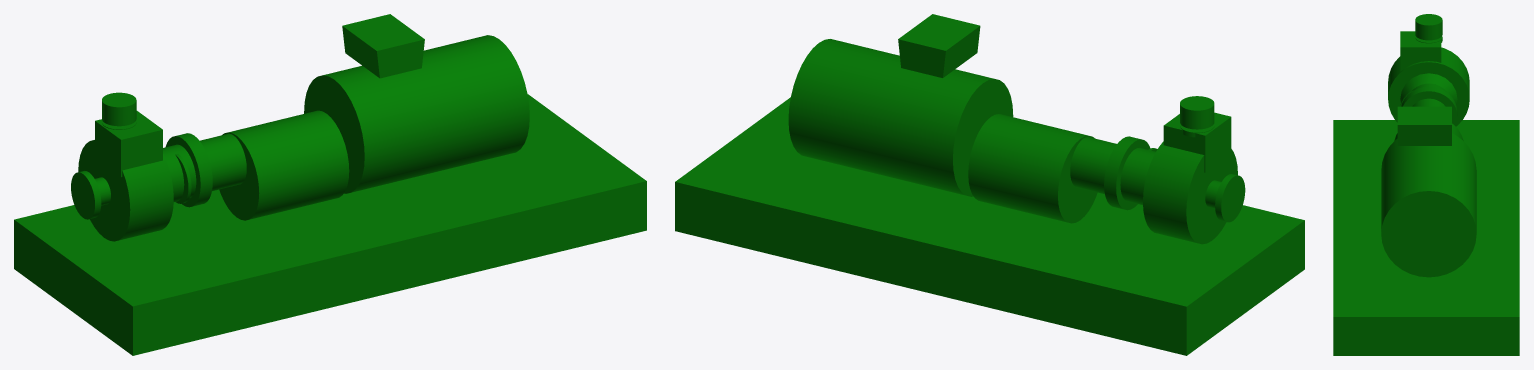
The model's file is Image-1710907767815-2281110694496_20-PA001.fbx.
3 views of the same model, side by side, from view 1: azimuth 30°, elevation 25°; view 2: azimuth 150°, elevation 25°; view 3: azimuth 270°, elevation 25° (orthographic). The views are drawn at different scales.
Parts seen in each view (by area): view 1: BOX 1 of SUBEQUIPMENT 1 of EQUIPMENT /20-PA001, CYLINDER 1 of SUBEQUIPMENT 1 of EQUIPMENT /20-PA001, CYLINDER 4 of SUBEQUIPMENT 1 of EQUIPMENT /20-PA001, CYLINDER 8 of SUBEQUIPMENT 1 of EQUIPMENT /20-PA001, PYRAMID 1 of SUBEQUIPMENT 1 of EQUIPMENT /20-PA001, BOX 2 of SUBEQUIPMENT 1 of EQUIPMENT /20-PA001, CYLINDER 5 of SUBEQUIPMENT 1 of EQUIPMENT /20-PA001, CYLINDER 6 of SUBEQUIPMENT 1 of EQUIPMENT /20-PA001, CYLINDER 10 of SUBEQUIPMENT 1 of EQUIPMENT /20-PA001, CYLINDER 14 of SUBEQUIPMENT 1 of EQUIPMENT /20-PA001, CYLINDER 15 of SUBEQUIPMENT 1 of EQUIPMENT /20-PA001, CYLINDER 7 of SUBEQUIPMENT 1 of EQUIPMENT /20-PA001; view 2: BOX 1 of SUBEQUIPMENT 1 of EQUIPMENT /20-PA001, CYLINDER 1 of SUBEQUIPMENT 1 of EQUIPMENT /20-PA001, CYLINDER 4 of SUBEQUIPMENT 1 of EQUIPMENT /20-PA001, CYLINDER 8 of SUBEQUIPMENT 1 of EQUIPMENT /20-PA001, PYRAMID 1 of SUBEQUIPMENT 1 of EQUIPMENT /20-PA001, BOX 2 of SUBEQUIPMENT 1 of EQUIPMENT /20-PA001, CYLINDER 5 of SUBEQUIPMENT 1 of EQUIPMENT /20-PA001, CYLINDER 6 of SUBEQUIPMENT 1 of EQUIPMENT /20-PA001, CYLINDER 15 of SUBEQUIPMENT 1 of EQUIPMENT /20-PA001, CYLINDER 7 of SUBEQUIPMENT 1 of EQUIPMENT /20-PA001, CYLINDER 10 of SUBEQUIPMENT 1 of EQUIPMENT /20-PA001, CYLINDER 14 of SUBEQUIPMENT 1 of EQUIPMENT /20-PA001; view 3: BOX 1 of SUBEQUIPMENT 1 of EQUIPMENT /20-PA001, CYLINDER 1 of SUBEQUIPMENT 1 of EQUIPMENT /20-PA001, PYRAMID 1 of SUBEQUIPMENT 1 of EQUIPMENT /20-PA001, CYLINDER 7 of SUBEQUIPMENT 1 of EQUIPMENT /20-PA001, BOX 2 of SUBEQUIPMENT 1 of EQUIPMENT /20-PA001, CYLINDER 6 of SUBEQUIPMENT 1 of EQUIPMENT /20-PA001, CONE 1 of SUBEQUIPMENT 1 of EQUIPMENT /20-PA001, CYLINDER 14 of SUBEQUIPMENT 1 of EQUIPMENT /20-PA001, CYLINDER 8 of SUBEQUIPMENT 1 of EQUIPMENT /20-PA001, CYLINDER 5 of SUBEQUIPMENT 1 of EQUIPMENT /20-PA001.
Boxes of the visible parts, left/top/right/bottom form: BOX 1 of SUBEQUIPMENT 1 of EQUIPMENT /20-PA001: left=14, top=94, right=646, bottom=355; CYLINDER 1 of SUBEQUIPMENT 1 of EQUIPMENT /20-PA001: left=304, top=35, right=529, bottom=193; CYLINDER 4 of SUBEQUIPMENT 1 of EQUIPMENT /20-PA001: left=219, top=110, right=349, bottom=220; CYLINDER 8 of SUBEQUIPMENT 1 of EQUIPMENT /20-PA001: left=78, top=140, right=160, bottom=241; PYRAMID 1 of SUBEQUIPMENT 1 of EQUIPMENT /20-PA001: left=342, top=14, right=424, bottom=78; BOX 2 of SUBEQUIPMENT 1 of EQUIPMENT /20-PA001: left=95, top=111, right=162, bottom=176; CYLINDER 5 of SUBEQUIPMENT 1 of EQUIPMENT /20-PA001: left=200, top=133, right=246, bottom=190; CYLINDER 6 of SUBEQUIPMENT 1 of EQUIPMENT /20-PA001: left=165, top=133, right=212, bottom=207; CYLINDER 10 of SUBEQUIPMENT 1 of EQUIPMENT /20-PA001: left=71, top=171, right=101, bottom=219; CYLINDER 14 of SUBEQUIPMENT 1 of EQUIPMENT /20-PA001: left=102, top=92, right=136, bottom=126; CYLINDER 15 of SUBEQUIPMENT 1 of EQUIPMENT /20-PA001: left=163, top=144, right=196, bottom=201; CYLINDER 7 of SUBEQUIPMENT 1 of EQUIPMENT /20-PA001: left=149, top=154, right=173, bottom=232; BOX 1 of SUBEQUIPMENT 1 of EQUIPMENT /20-PA001: left=675, top=97, right=1304, bottom=355; CYLINDER 1 of SUBEQUIPMENT 1 of EQUIPMENT /20-PA001: left=788, top=39, right=1013, bottom=196; CYLINDER 4 of SUBEQUIPMENT 1 of EQUIPMENT /20-PA001: left=968, top=114, right=1097, bottom=223; CYLINDER 8 of SUBEQUIPMENT 1 of EQUIPMENT /20-PA001: left=1156, top=148, right=1237, bottom=244; PYRAMID 1 of SUBEQUIPMENT 1 of EQUIPMENT /20-PA001: left=898, top=14, right=980, bottom=77; BOX 2 of SUBEQUIPMENT 1 of EQUIPMENT /20-PA001: left=1163, top=112, right=1231, bottom=172; CYLINDER 5 of SUBEQUIPMENT 1 of EQUIPMENT /20-PA001: left=1070, top=137, right=1116, bottom=194; CYLINDER 6 of SUBEQUIPMENT 1 of EQUIPMENT /20-PA001: left=1104, top=136, right=1150, bottom=210; CYLINDER 15 of SUBEQUIPMENT 1 of EQUIPMENT /20-PA001: left=1120, top=148, right=1155, bottom=204; CYLINDER 7 of SUBEQUIPMENT 1 of EQUIPMENT /20-PA001: left=1143, top=141, right=1173, bottom=235; CYLINDER 10 of SUBEQUIPMENT 1 of EQUIPMENT /20-PA001: left=1215, top=174, right=1245, bottom=222; CYLINDER 14 of SUBEQUIPMENT 1 of EQUIPMENT /20-PA001: left=1180, top=96, right=1214, bottom=129; BOX 1 of SUBEQUIPMENT 1 of EQUIPMENT /20-PA001: left=1333, top=120, right=1519, bottom=355; CYLINDER 1 of SUBEQUIPMENT 1 of EQUIPMENT /20-PA001: left=1381, top=133, right=1476, bottom=277; PYRAMID 1 of SUBEQUIPMENT 1 of EQUIPMENT /20-PA001: left=1397, top=106, right=1451, bottom=145; CYLINDER 7 of SUBEQUIPMENT 1 of EQUIPMENT /20-PA001: left=1388, top=59, right=1469, bottom=126; BOX 2 of SUBEQUIPMENT 1 of EQUIPMENT /20-PA001: left=1400, top=31, right=1441, bottom=71; CYLINDER 6 of SUBEQUIPMENT 1 of EQUIPMENT /20-PA001: left=1401, top=86, right=1457, bottom=125; CONE 1 of SUBEQUIPMENT 1 of EQUIPMENT /20-PA001: left=1400, top=73, right=1457, bottom=105; CYLINDER 14 of SUBEQUIPMENT 1 of EQUIPMENT /20-PA001: left=1415, top=14, right=1442, bottom=40; CYLINDER 8 of SUBEQUIPMENT 1 of EQUIPMENT /20-PA001: left=1388, top=47, right=1469, bottom=92; CYLINDER 5 of SUBEQUIPMENT 1 of EQUIPMENT /20-PA001: left=1412, top=98, right=1445, bottom=106.
Bounding box in the file's own units: 2.5 × 1 × 0.9545.
